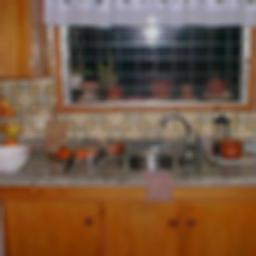Lavaplatos: (123, 109, 200, 172)
